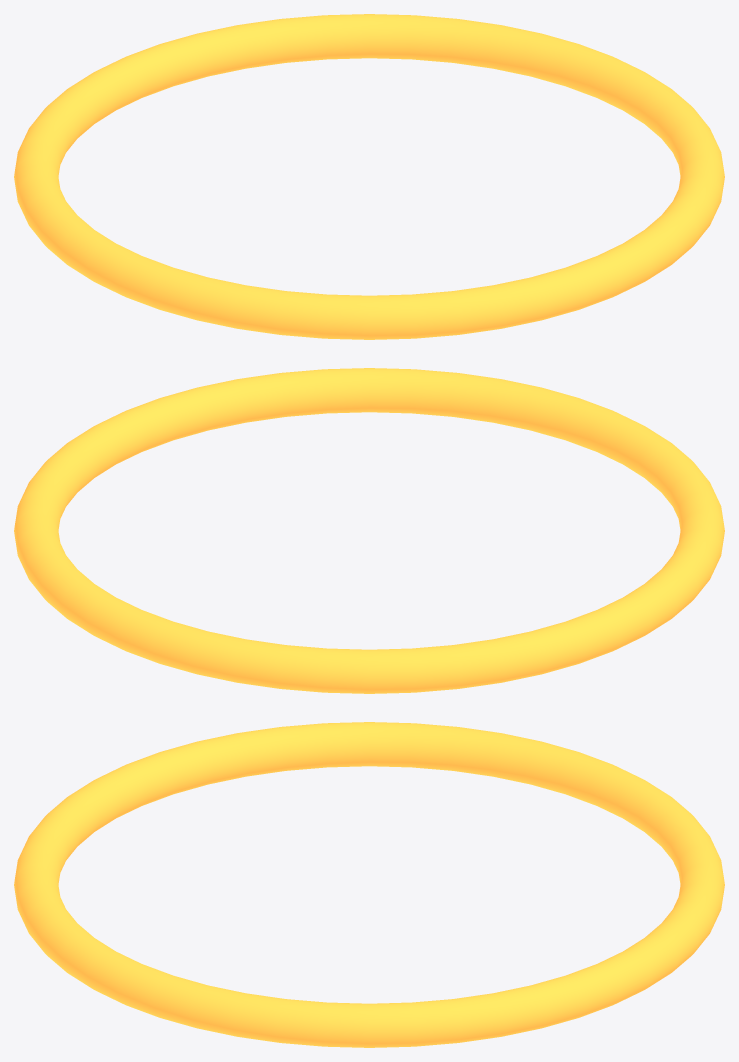
The model's file is crash_shock.glb.
The picture shows the model from 3 angles, top to bottom: view 1: azimuth 30°, elevation 25°; view 2: azimuth 150°, elevation 25°; view 3: azimuth 270°, elevation 25°; orthographic projection.
Visible parts, largest first — view 1: Ring; view 2: Ring; view 3: Ring.
Part boxes in pixels (left/top/right/bottom): Ring: left=14, top=14, right=724, bottom=339; Ring: left=14, top=368, right=724, bottom=693; Ring: left=14, top=722, right=724, bottom=1047.
Bounding box in the file's own units: 0.128 × 0.008 × 0.128.
